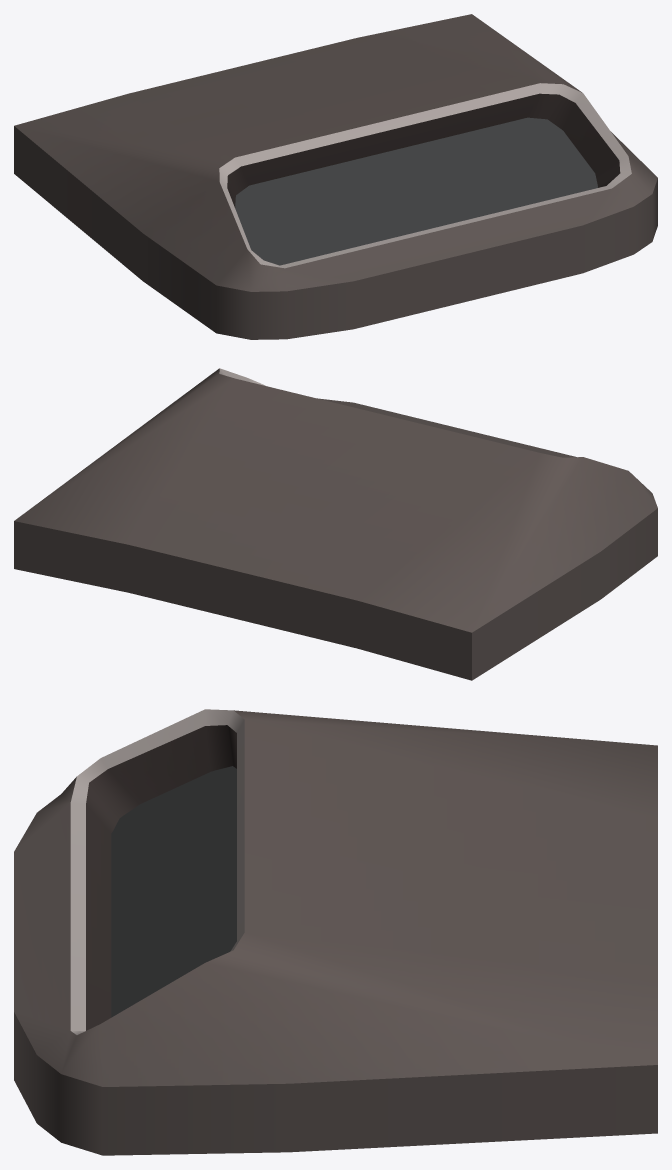
Rendered from Car_12_Engine.fbx.
3 views of the same model, one above another, from view 1: azimuth 30°, elevation 25°; view 2: azimuth 150°, elevation 25°; view 3: azimuth 270°, elevation 25° (orthographic). The views are drawn at different scales.
Visible parts, largest first — view 1: Car_12_Engine; view 2: Car_12_Engine; view 3: Car_12_Engine.
Boxes of the visible parts, x1,y1,x2,y2 form: Car_12_Engine: (14, 14, 657, 339); Car_12_Engine: (14, 368, 657, 680); Car_12_Engine: (14, 709, 657, 1155).
Bounding box in the file's own units: 45.03 × 38.37 × 11.61.
